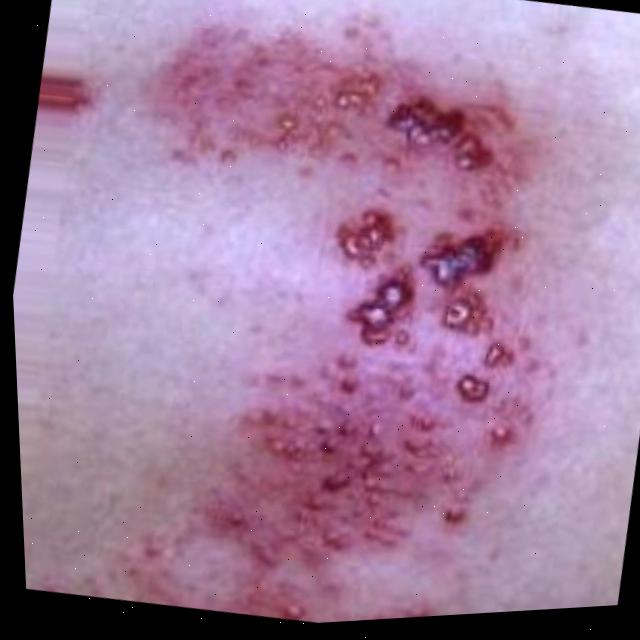Shingles: (45, 0, 589, 637)
